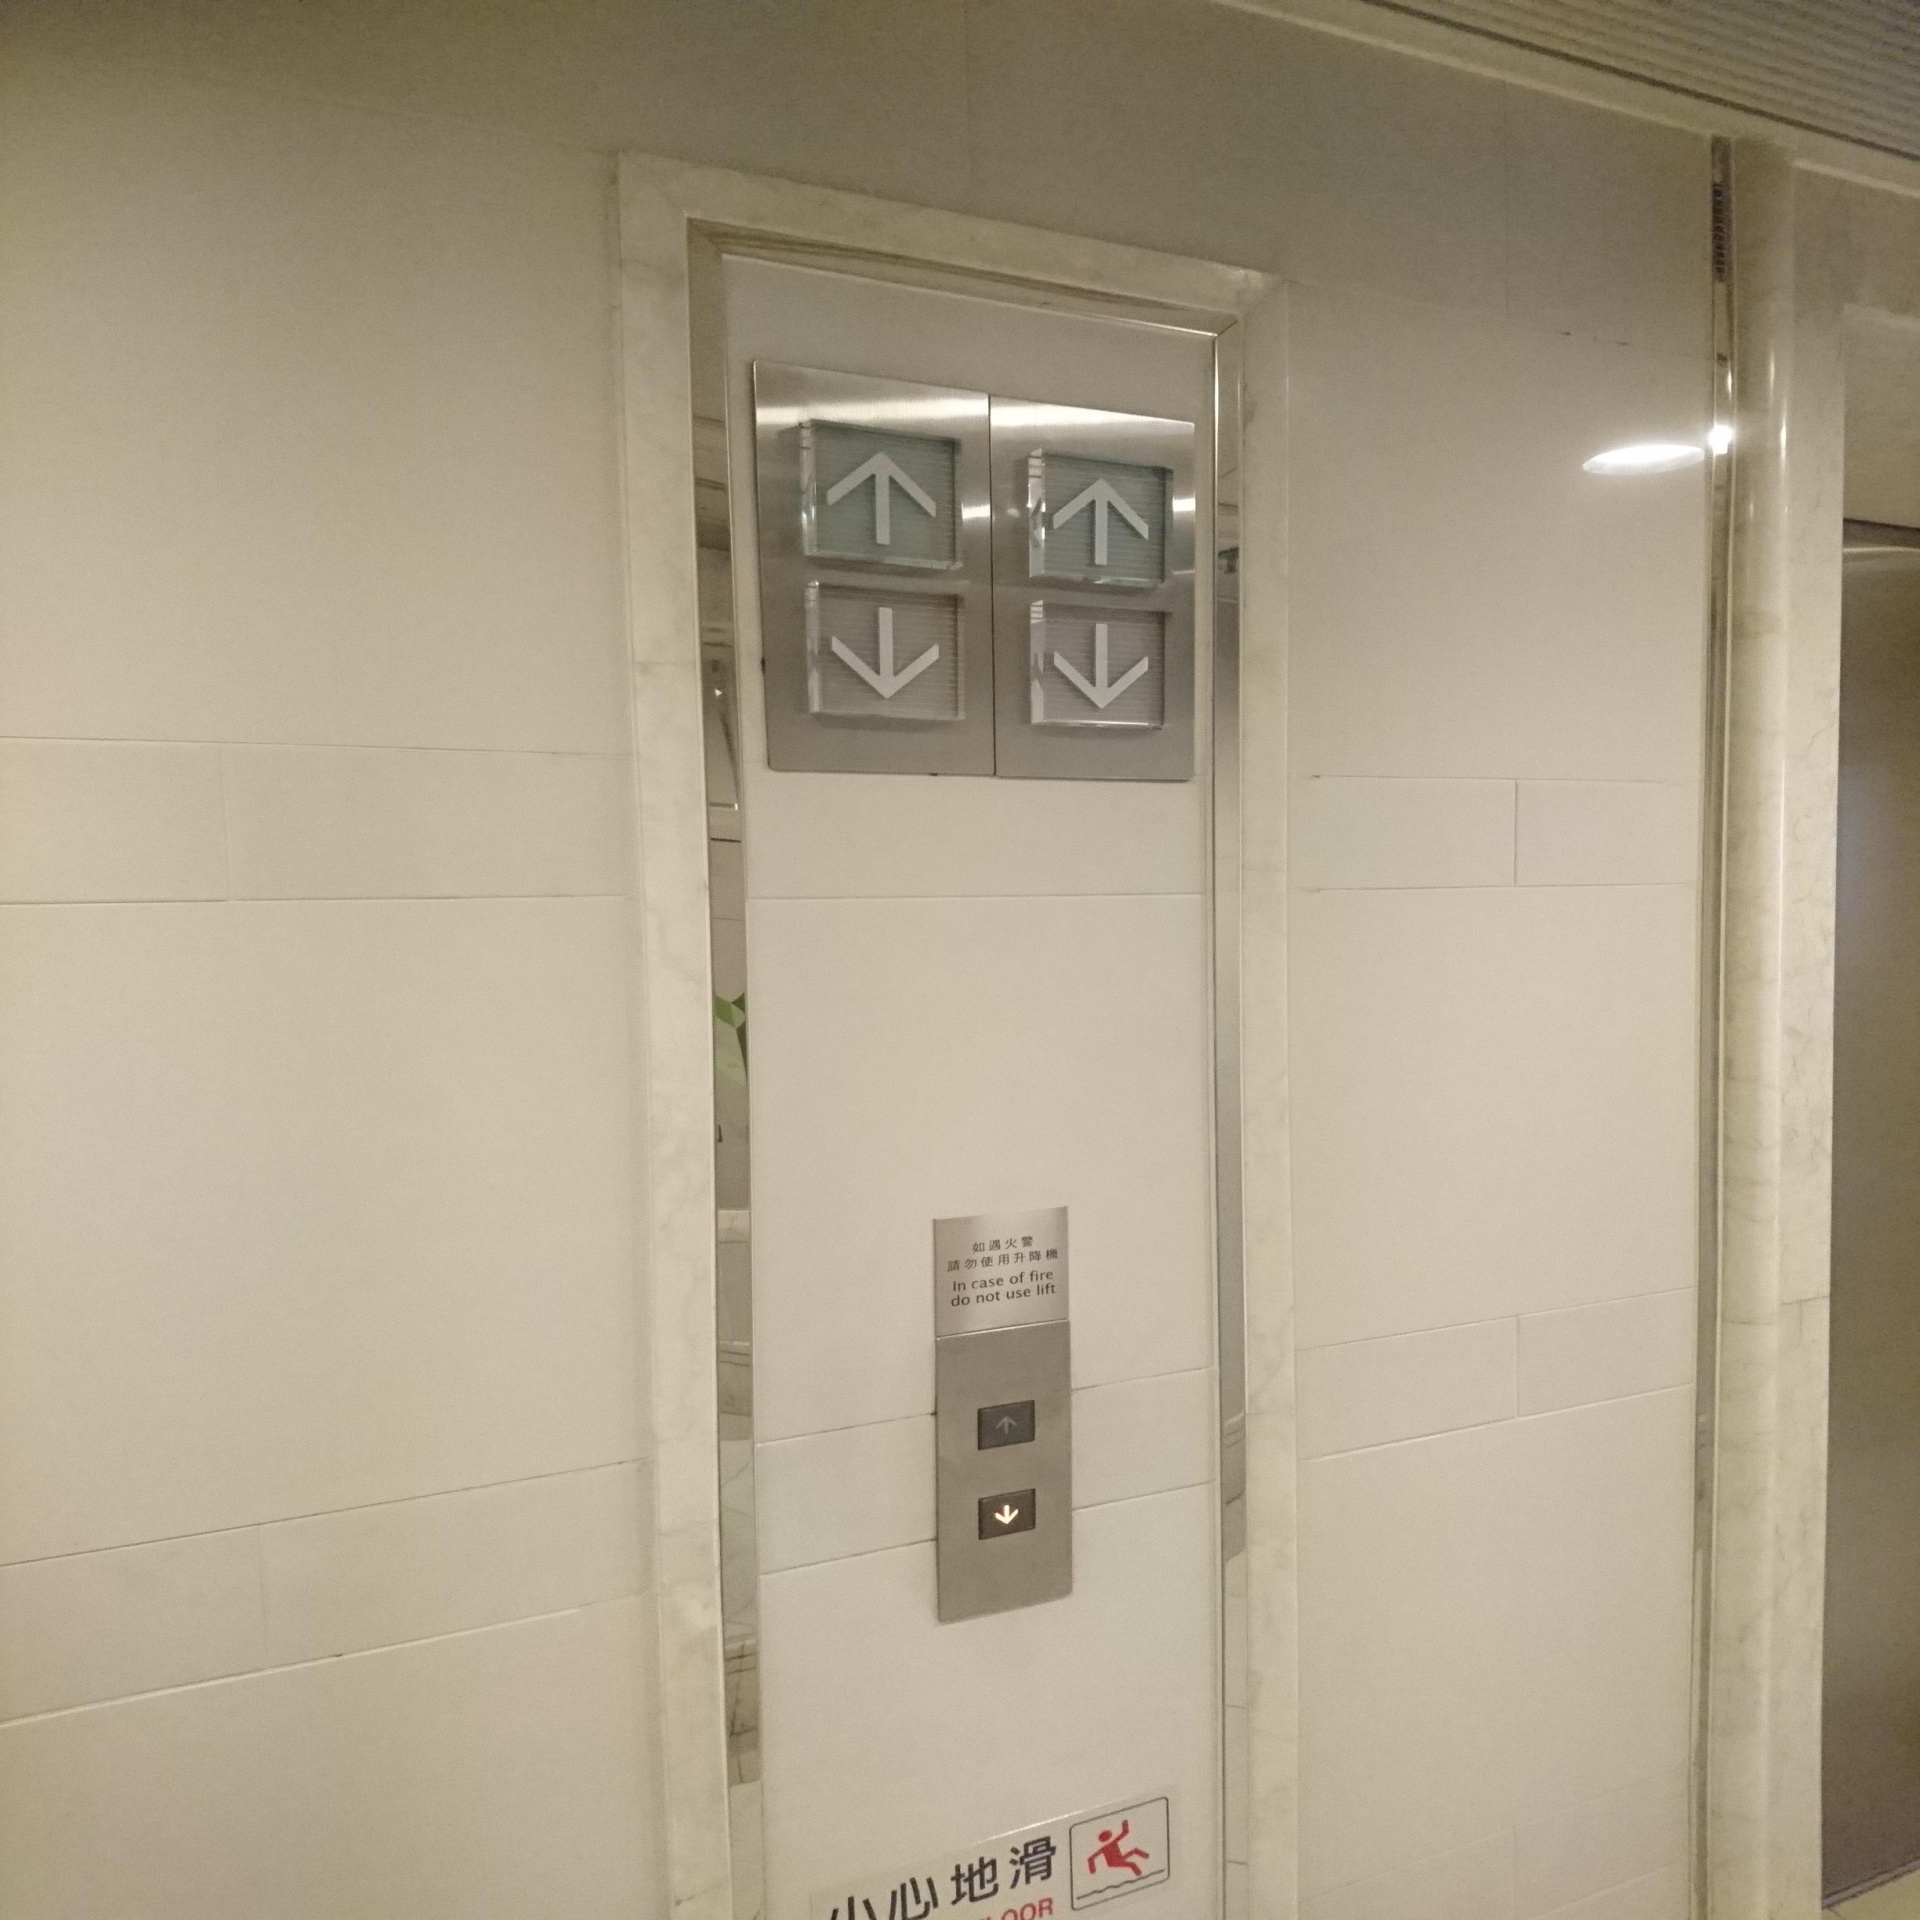down: (802, 577, 971, 723), (1027, 598, 1173, 731), (976, 1486, 1037, 1544)
up: (796, 413, 969, 573), (1022, 440, 1180, 593), (976, 1398, 1037, 1454)
